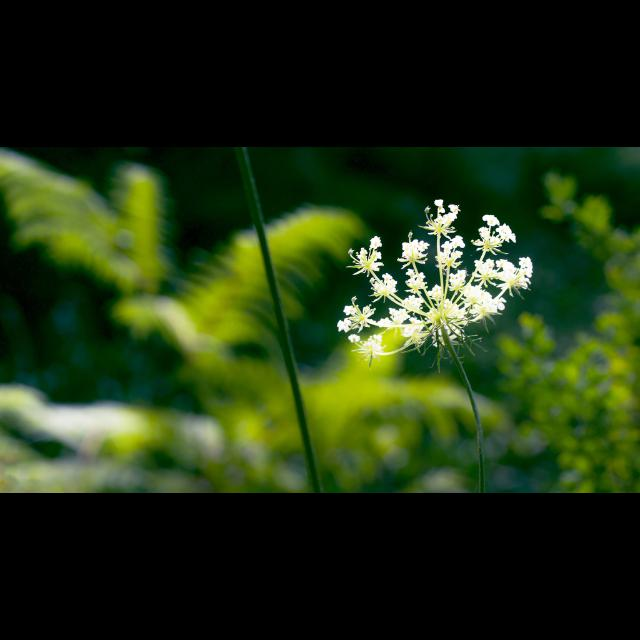Flower: (476, 255, 530, 285), (462, 284, 508, 312), (335, 304, 361, 334), (436, 198, 462, 228), (372, 271, 400, 297), (400, 237, 428, 263), (437, 234, 465, 260), (473, 226, 501, 252), (377, 306, 407, 324), (363, 330, 383, 354), (406, 268, 426, 288), (447, 268, 465, 288), (497, 222, 515, 242), (399, 298, 425, 310), (484, 212, 500, 228), (368, 232, 382, 250), (430, 286, 444, 300), (350, 334, 360, 344)
